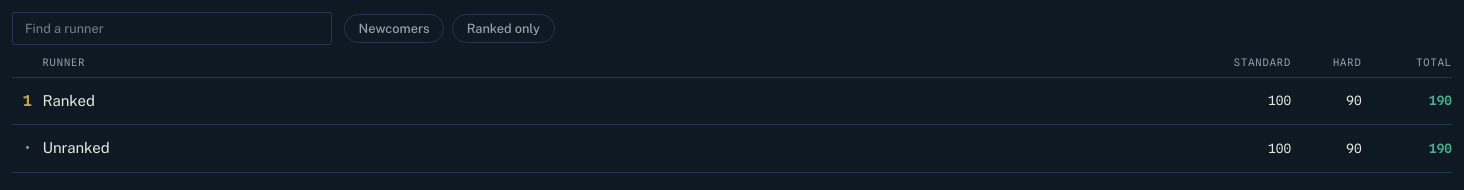
Test: EventLadder filters › the Ranked only chip drops entries with no rank
The width and height of the screenshot is (1464, 190).
Click the button "Ranked only" at (503,28), box [452, 14, 555, 43]
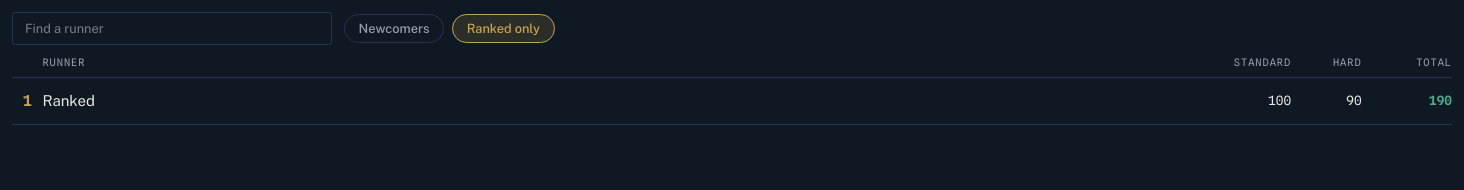
Check: the text "Ranked" is shown, box [42, 90, 95, 112]
Check: the link "Unranked" is gone
